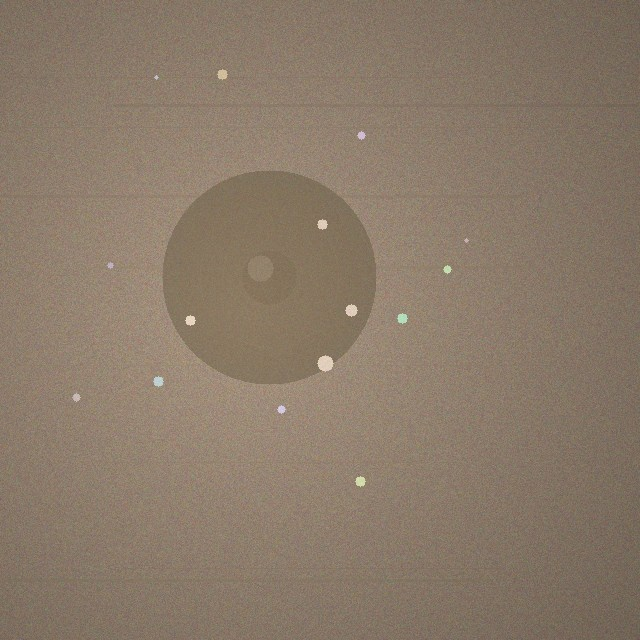overburn: (162, 170, 376, 384)
